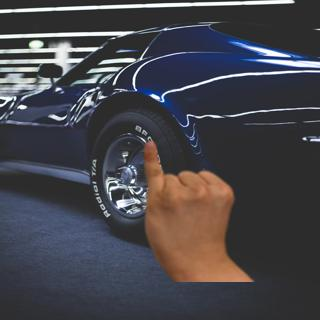FINE: (137, 139, 237, 276)
